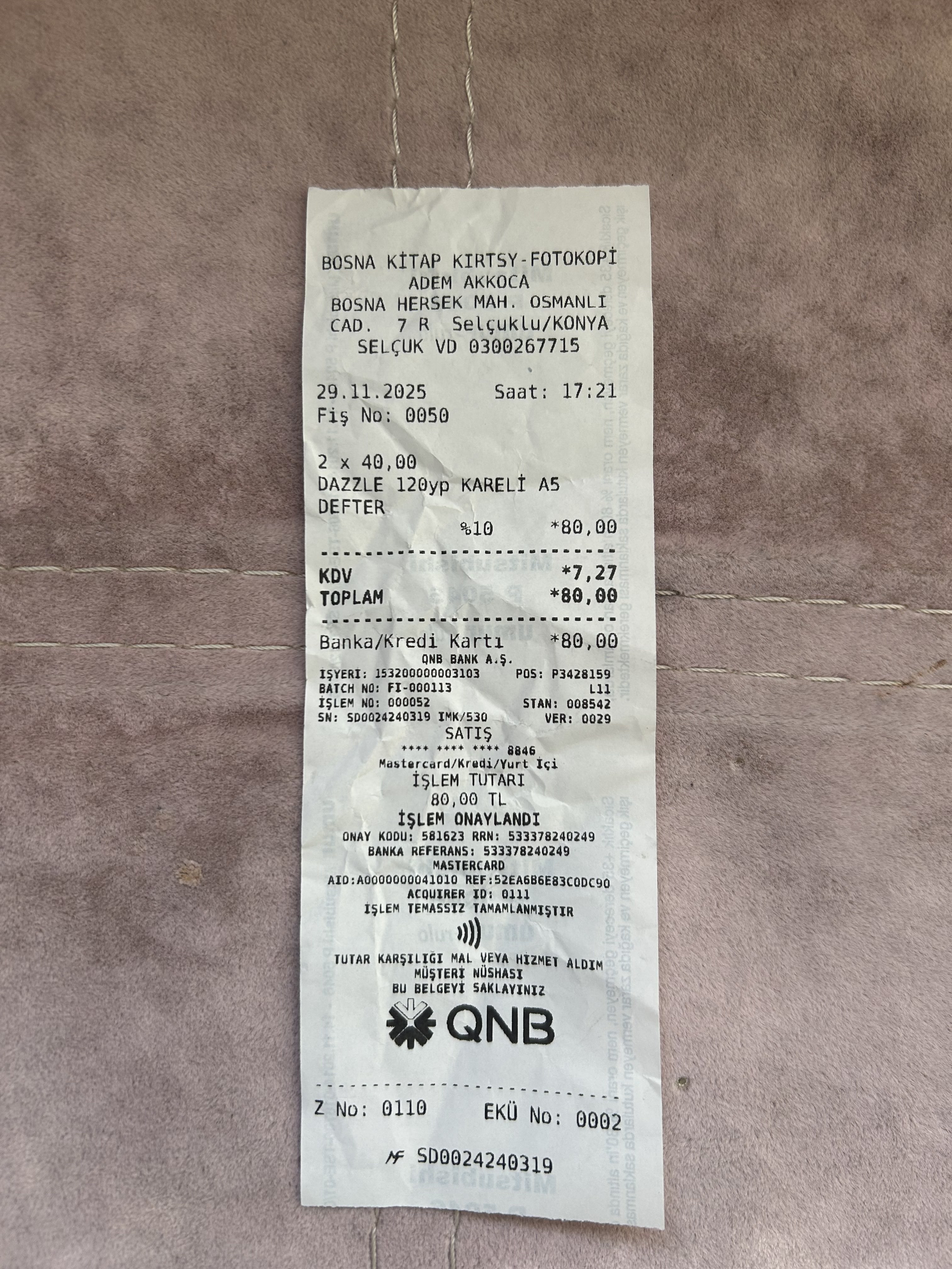date: (312, 379, 430, 401)
price: (558, 580, 628, 612)
workplace: (313, 240, 622, 337)
